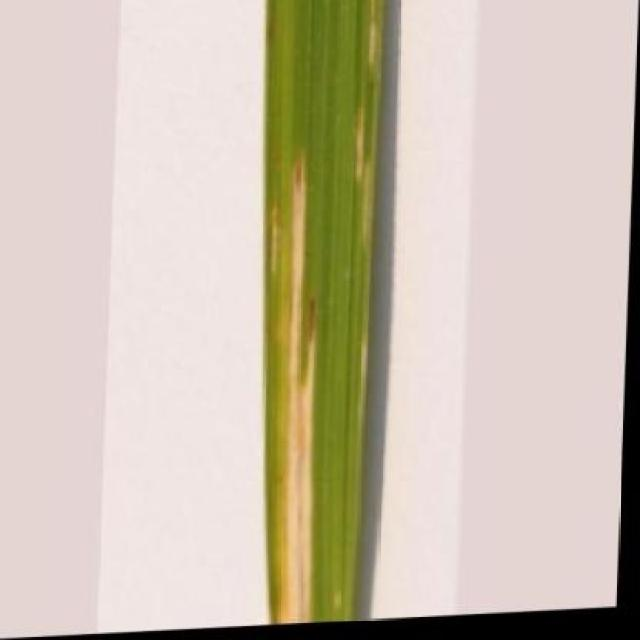Brown_Spot: (238, 0, 389, 631)
